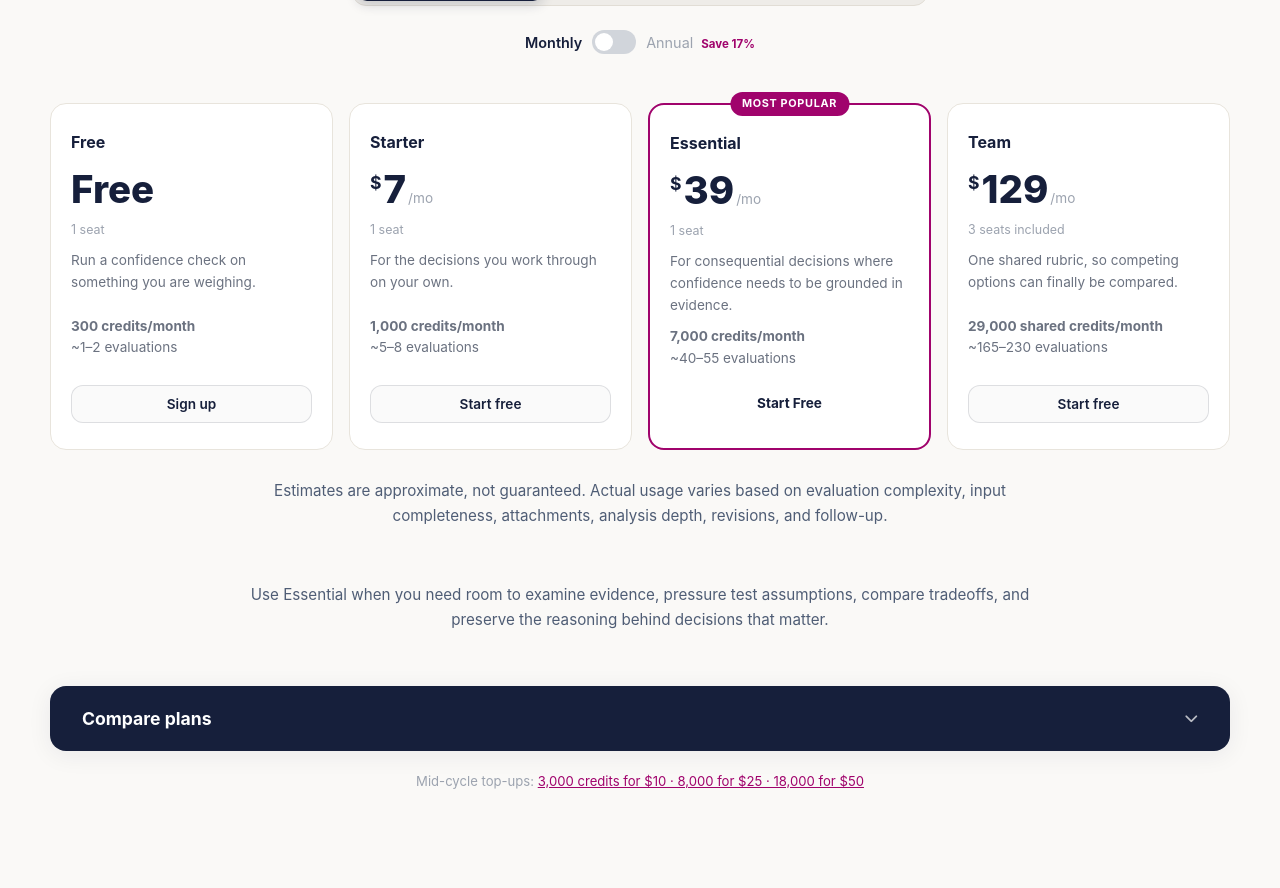
Test: PricingVariantB › describes automatic routing without presenting model tiers
(page scrolled)
Click the button "Compare plans".
click(147, 719)  # box left=50, top=686, right=1230, bottom=751
(page scrolled)
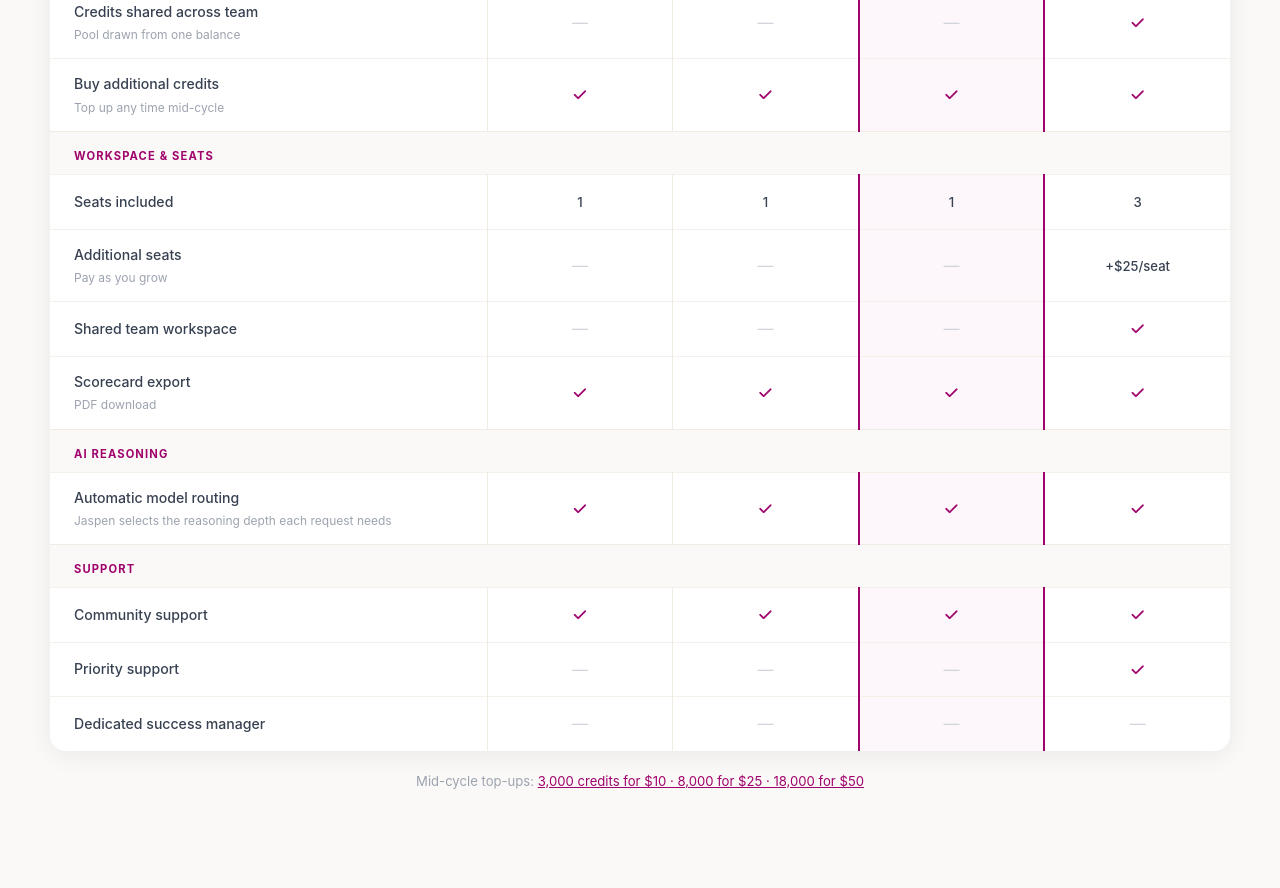
Now the text "Automatic model routing" is shown, box left=74, top=488, right=239, bottom=506
Now the text "Jaspen selects the reasoning depth each request needs" is shown, box left=74, top=513, right=392, bottom=528
